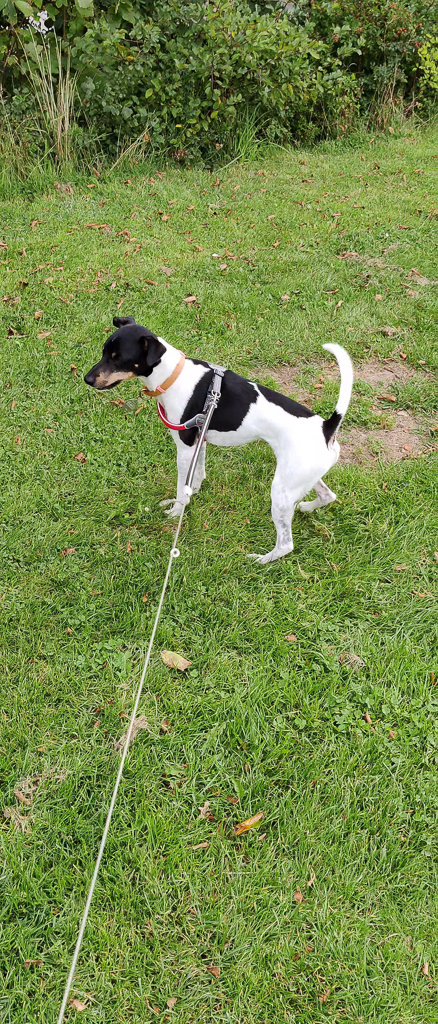Dog: (77, 306, 369, 575)
